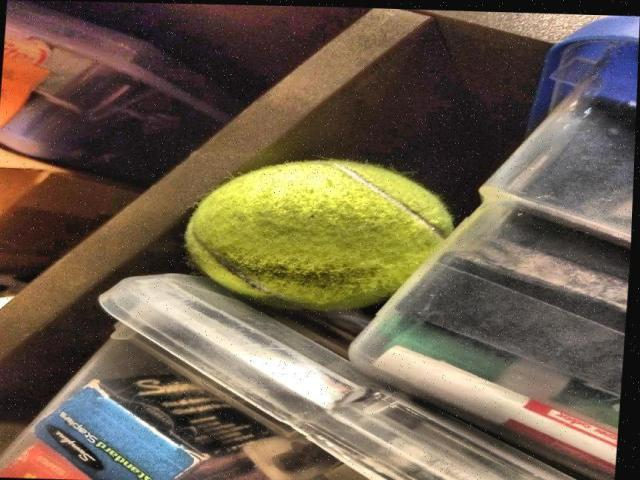tennis-ball: (182, 150, 475, 316)
